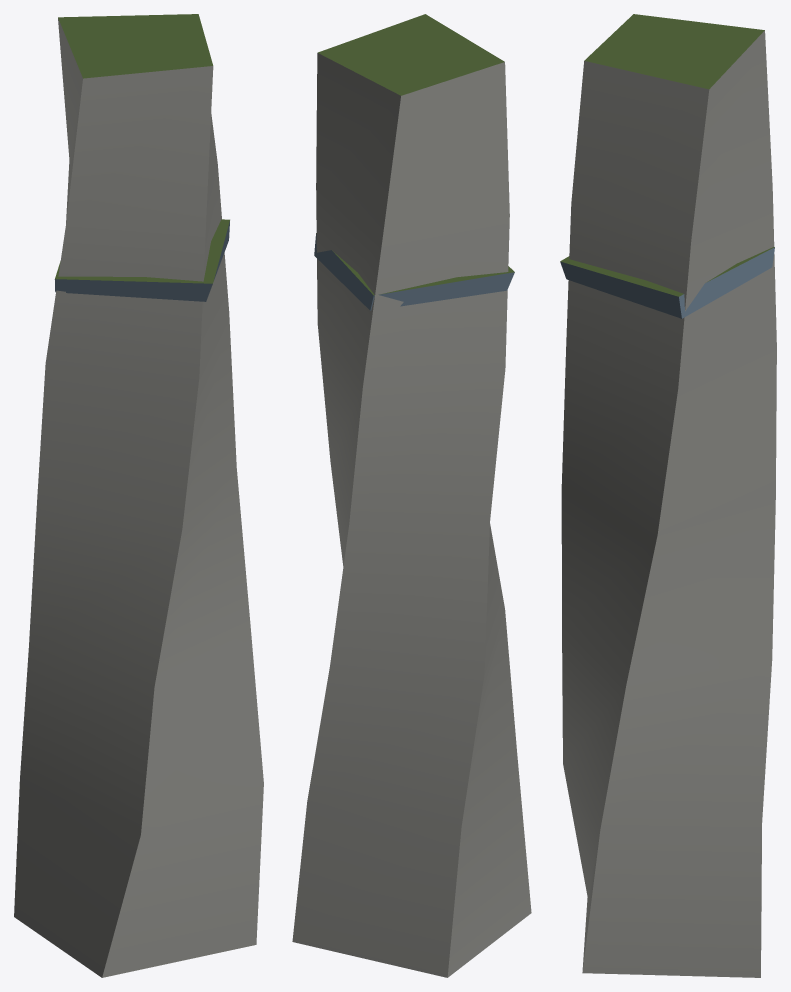
The model's file is MakerPillar.fbx.
3 views of the same model, side by side, from view 1: azimuth 30°, elevation 25°; view 2: azimuth 150°, elevation 25°; view 3: azimuth 270°, elevation 25° (orthographic). The views are drawn at different scales.
Visible parts, largest first — view 1: MakerPillar; view 2: MakerPillar; view 3: MakerPillar.
Boxes of the visible parts, x1,y1,x2,y2 form: MakerPillar: (14,14,263,977); MakerPillar: (292,14,531,977); MakerPillar: (560,14,776,977).
Size of the model in its own units: 0.6042 by 2.72 by 0.5976.
